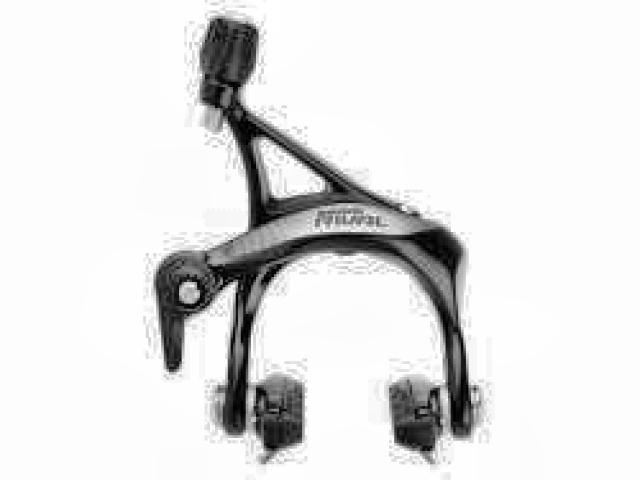rim_brake: (151, 16, 484, 469)
